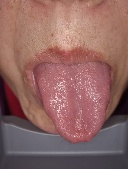tongue: (32, 69, 117, 146)
